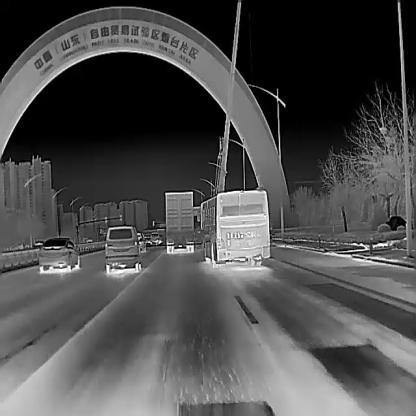car: (200, 187, 270, 267), (165, 191, 194, 253), (105, 225, 142, 271), (38, 236, 80, 270), (136, 231, 145, 252), (85, 237, 94, 246)
